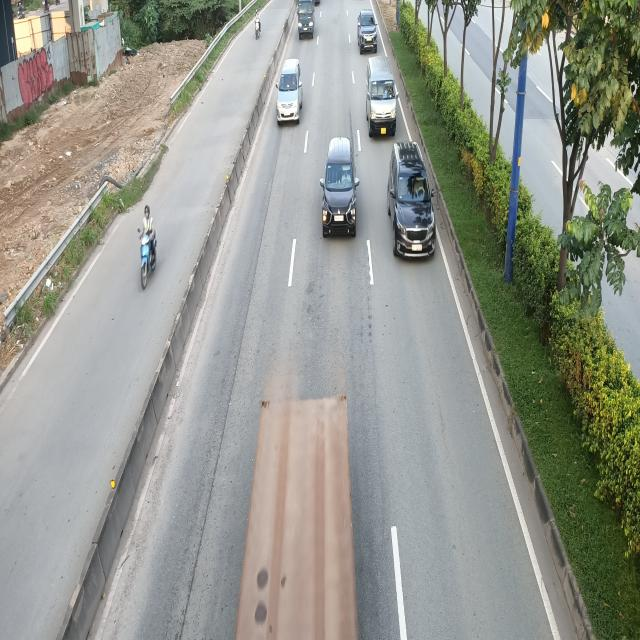car: (388, 144, 436, 262), (321, 140, 361, 240), (275, 58, 303, 125), (357, 9, 378, 54)
container: (244, 399, 356, 640)
truck: (296, 0, 316, 37)
van: (364, 57, 396, 136)
